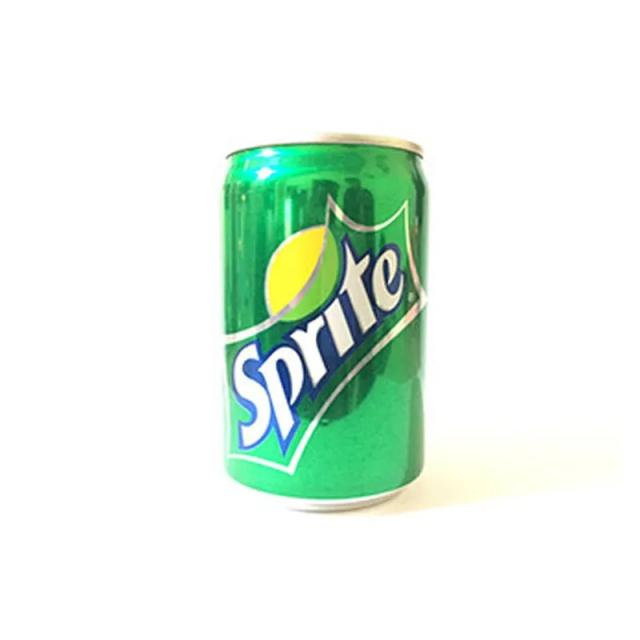sprite: (211, 138, 441, 513)
